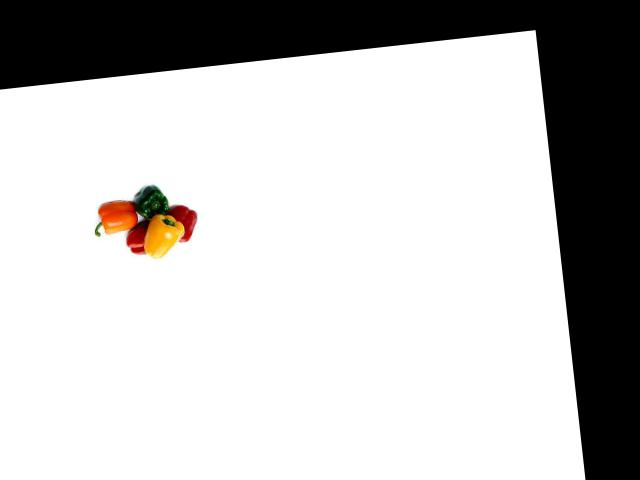bell_pepper: (129, 177, 178, 230)
